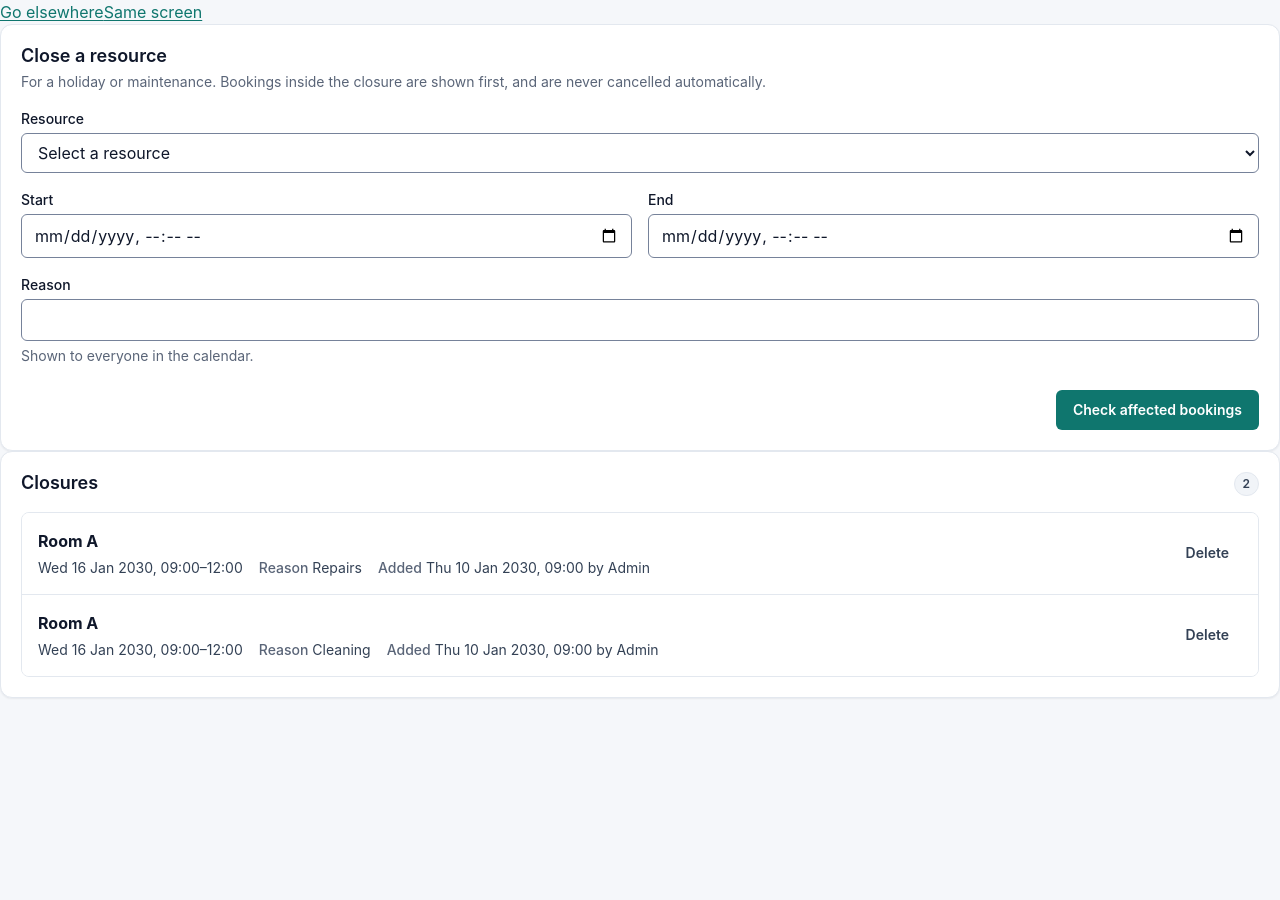
it: AdminClosuresPage › deletes only the chosen closure
Expected: the text "Thu 10 Jan 2030, 09:00 by Admin" in the row of "Repairs" is shown, [426,557,650,578]
Click the button with aria-label "Delete closure of Room A".
click(1207, 553)  # box [1173,537,1242,569]
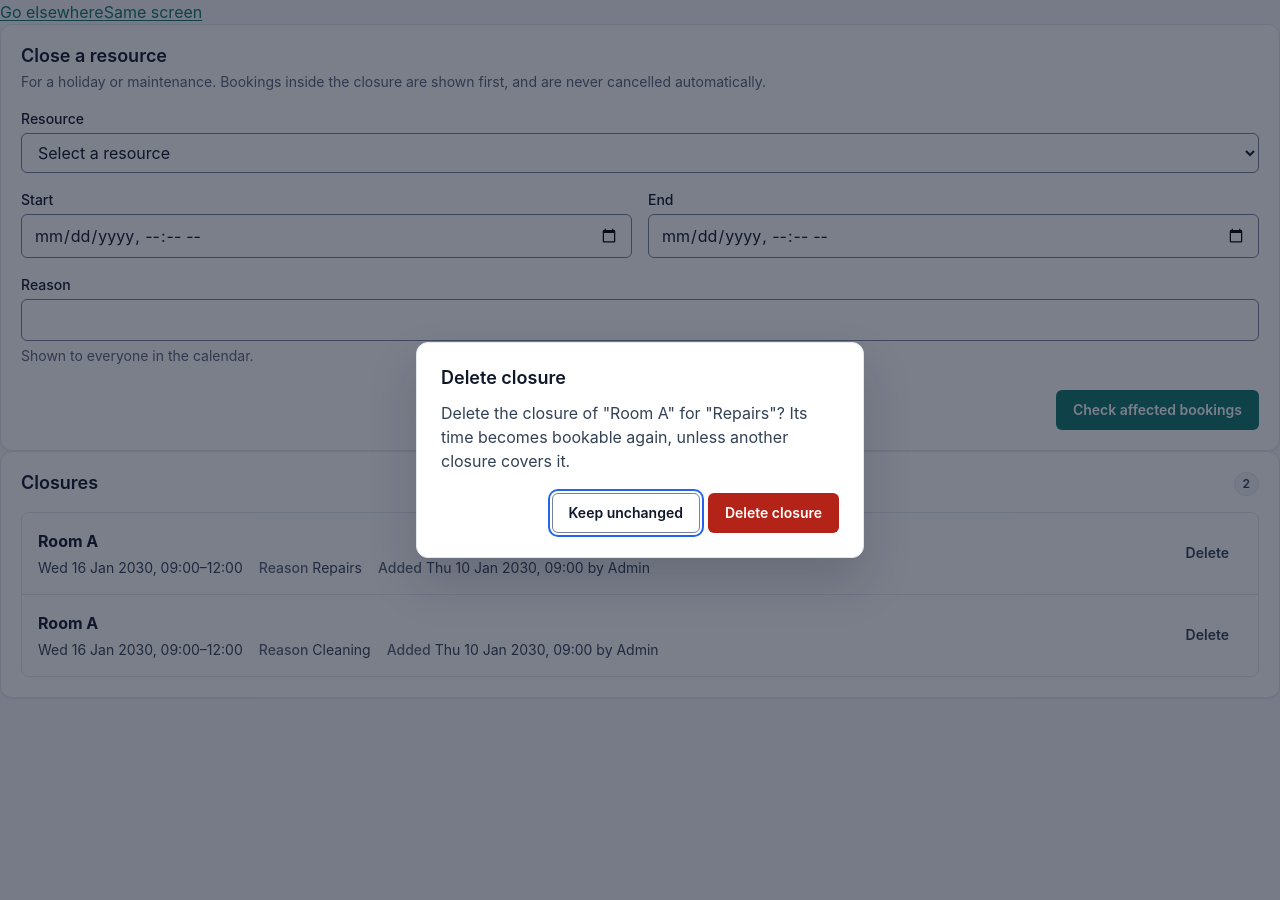
Click the button "Delete closure".
click(773, 513)  # box [708,493,839,533]
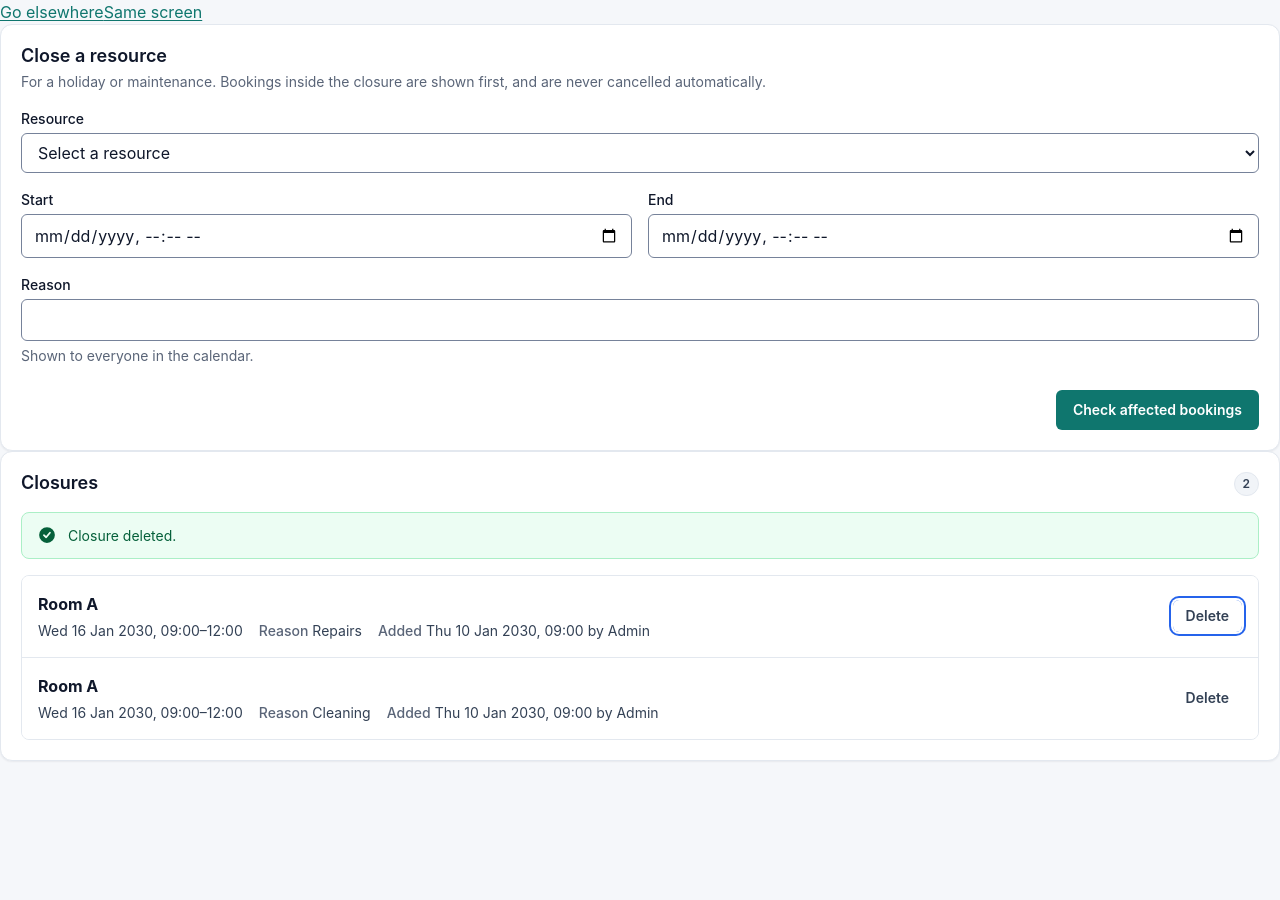
Expected: the text "Closure deleted." is shown, [68,525,176,546]
